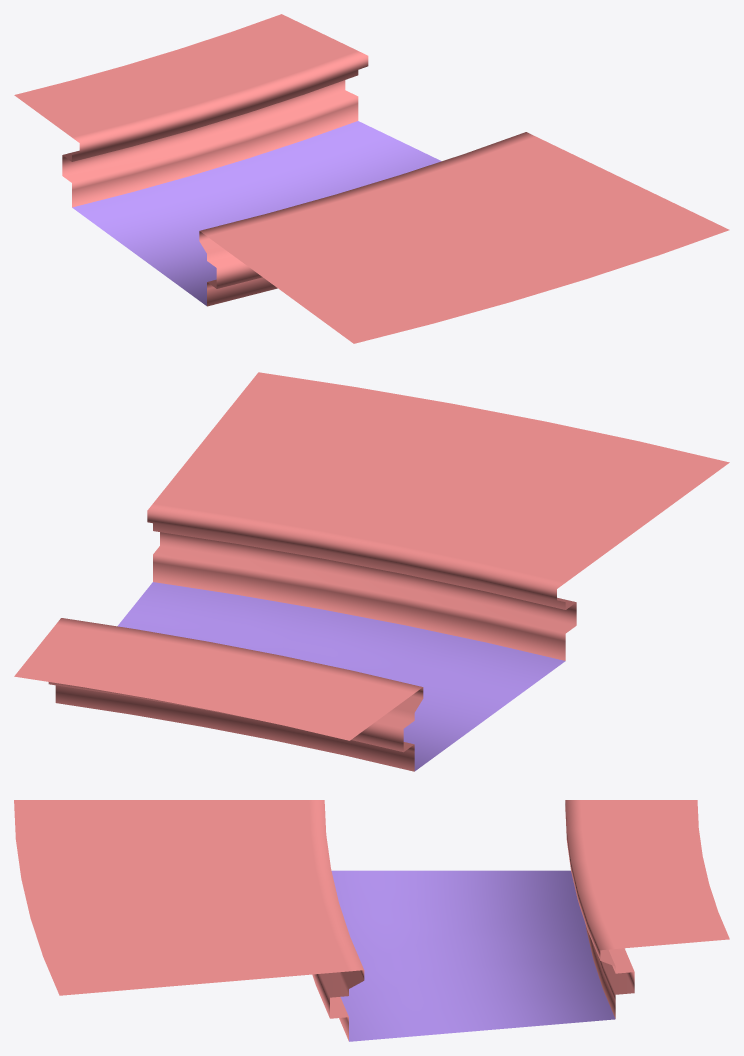
File: Large_Tunnel_Platform_Bend.FBX
The picture shows the model from 3 angles, top to bottom: view 1: azimuth 30°, elevation 25°; view 2: azimuth 150°, elevation 25°; view 3: azimuth 270°, elevation 25°; orthographic projection. The views are drawn at different scales.
Parts seen in each view (by area): view 1: Large_Tunnel_Platform_Bend; view 2: Large_Tunnel_Platform_Bend; view 3: Large_Tunnel_Platform_Bend.
Part boxes in pixels (x1,y1,x2,y2): Large_Tunnel_Platform_Bend: [14, 14, 729, 343]; Large_Tunnel_Platform_Bend: [14, 372, 729, 771]; Large_Tunnel_Platform_Bend: [14, 800, 729, 1041].
Bounding box in the file's own units: 5.96 × 1 × 9.22.
